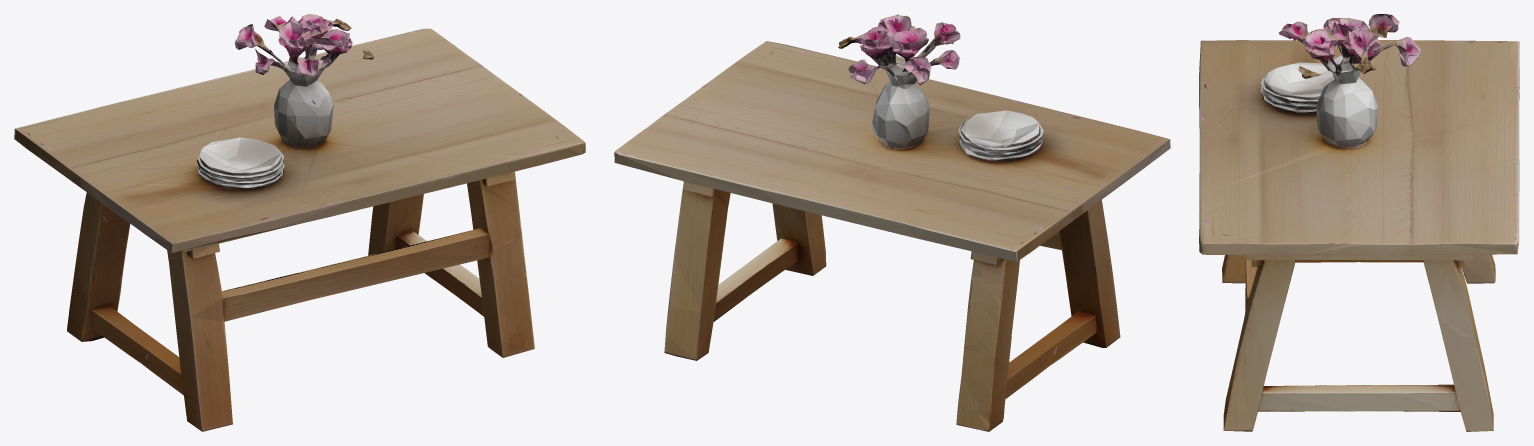
File: diningTable.glb
3 renders of one model, left to right at view 1: azimuth 30°, elevation 25°; view 2: azimuth 150°, elevation 25°; view 3: azimuth 270°, elevation 25°, orthographic. The views are drawn at different scales.
Parts seen in each view (by area): view 1: world; view 2: world; view 3: world.
Part boxes in pixels (x1,y1,x2,y2): world: (14, 14, 585, 431); world: (614, 14, 1170, 431); world: (1199, 14, 1519, 431).
Size of the model in its own units: 1 by 0.7433 by 0.6632.
1 material, 1 textured.
